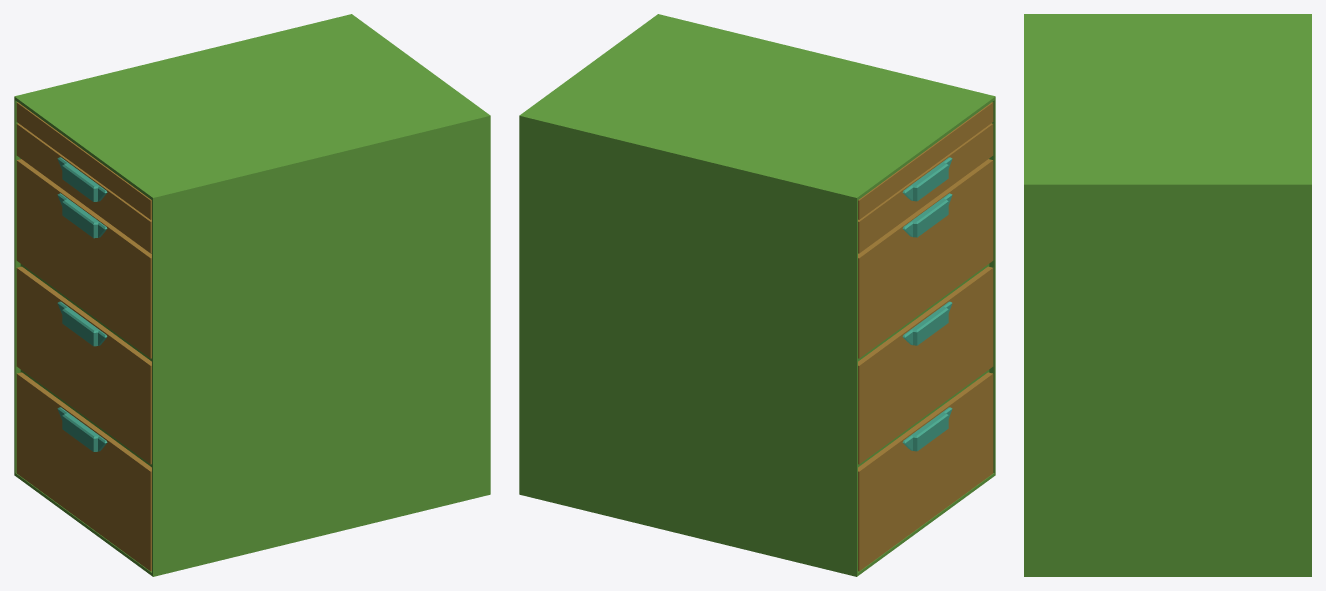
The model's file is container.fbx.
3 views of the same model, side by side, from view 1: azimuth 30°, elevation 25°; view 2: azimuth 150°, elevation 25°; view 3: azimuth 270°, elevation 25° (orthographic). The views are drawn at different scales.
Parts seen in each view (by area): view 1: container; view 2: container; view 3: container.
Part boxes in pixels (x1,y1,x2,y2): container: (14, 14, 490, 576); container: (519, 14, 995, 576); container: (1024, 14, 1311, 576).
Bounding box in the file's own units: 0.5002 × 0.5267 × 0.35.
